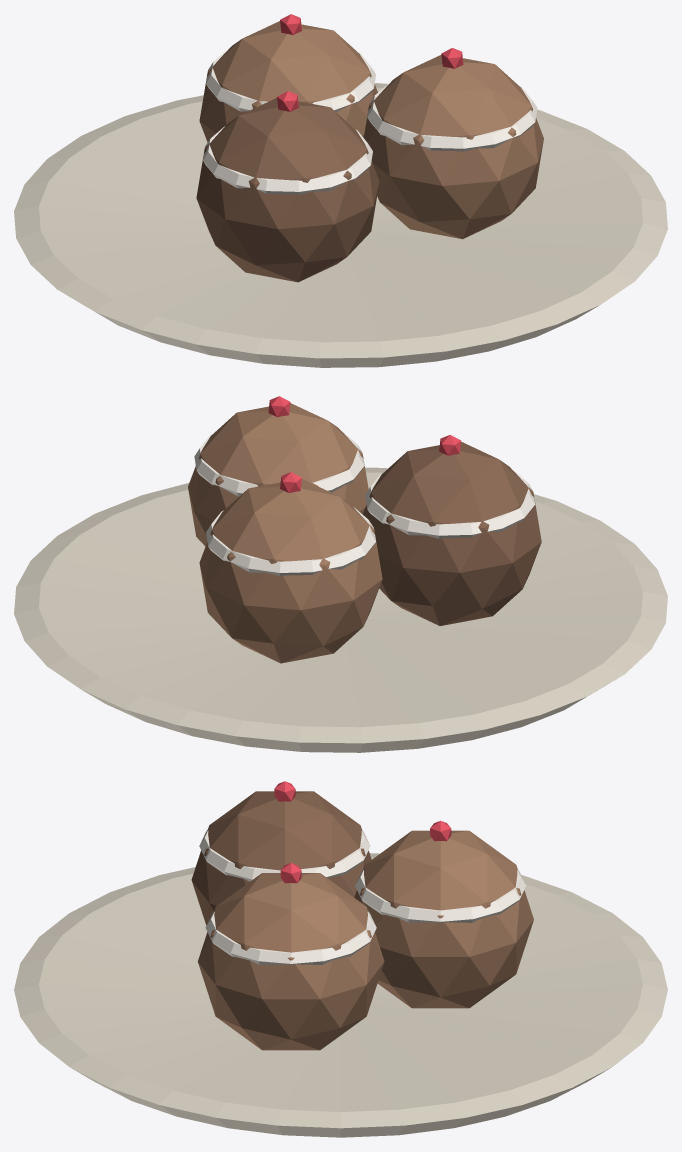
The model's file is HOB_Truffles.fbx.
3 renders of one model, top to bottom at view 1: azimuth 30°, elevation 25°; view 2: azimuth 150°, elevation 25°; view 3: azimuth 270°, elevation 25°, orthographic.
Visible parts, largest first — view 1: HOB_Truffles; view 2: HOB_Truffles; view 3: HOB_Truffles.
Boxes of the visible parts, box(x1,y1,x2,y2) form: HOB_Truffles: box(14, 14, 667, 367); HOB_Truffles: box(14, 396, 667, 752); HOB_Truffles: box(14, 781, 667, 1137).
Size of the model in its own units: 210 by 68 by 210.
